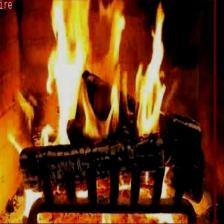fire: (0, 0, 216, 224)
